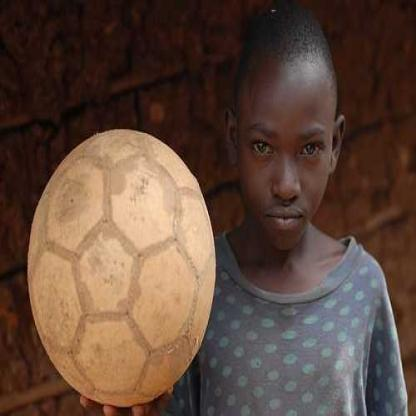ball: (27, 129, 216, 408)
